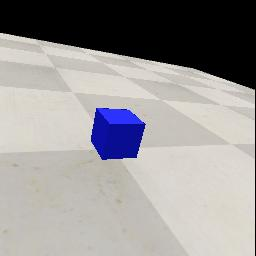box: (91, 108, 146, 160)
